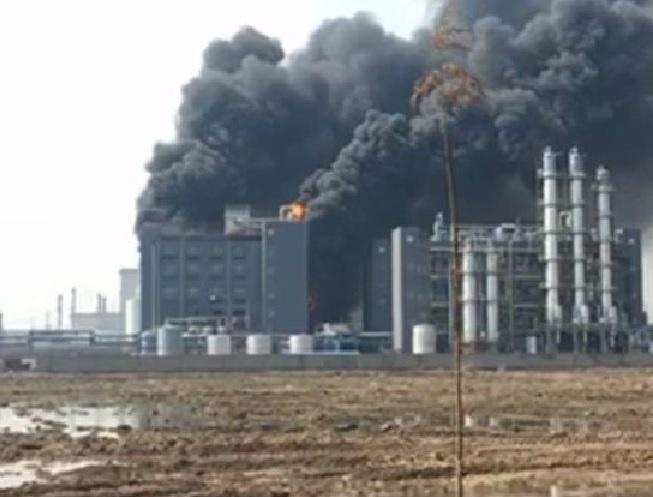fire: (284, 199, 306, 217)
